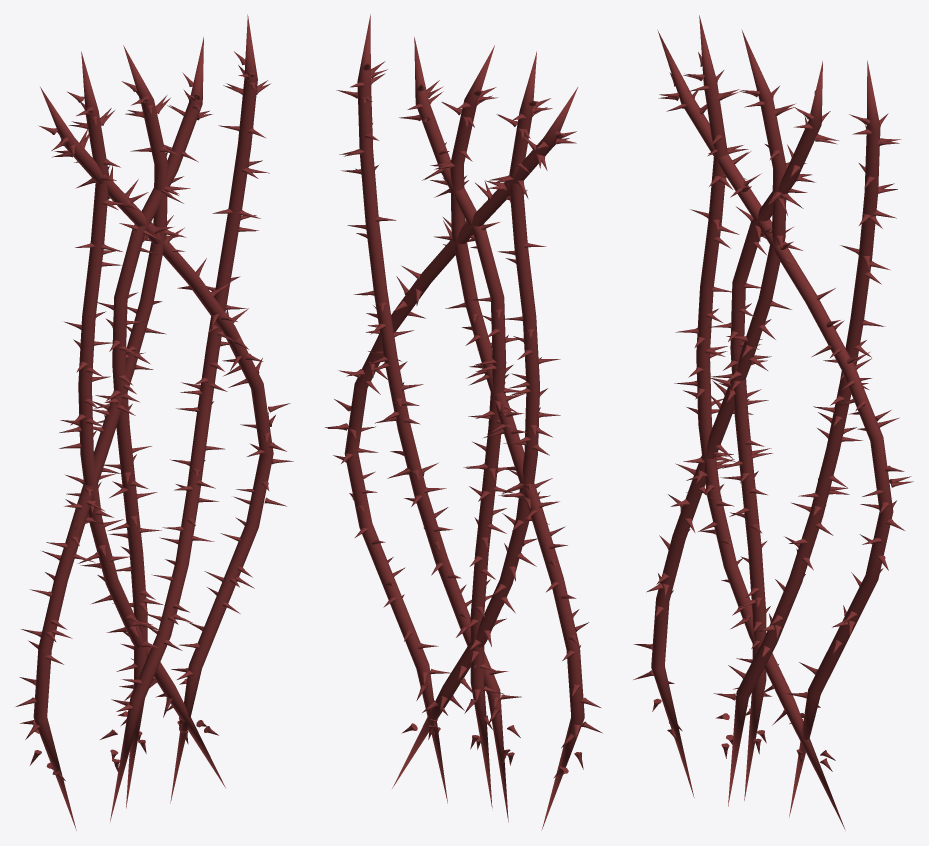
File: ronce_door_anim.fbx
The picture shows the model from 3 angles, left to right: view 1: azimuth 30°, elevation 25°; view 2: azimuth 150°, elevation 25°; view 3: azimuth 330°, elevation 25°; orthographic projection.
Visible parts, largest first — view 1: vigne, pasted__pCylinder7, pasted__pCylinder6, pasted__pCylinder5, pasted__pCylinder4; view 2: vigne, pasted__pCylinder6, pasted__pCylinder5, pasted__pCylinder7, pasted__pCylinder4; view 3: pasted__pCylinder7, pasted__pCylinder5, vigne, pasted__pCylinder6, pasted__pCylinder4.
Part boxes in pixels (x1,y1,x2,y2): vigne: (100,14,270,821); pasted__pCylinder7: (38,87,293,803); pasted__pCylinder6: (15,45,190,830); pasted__pCylinder5: (59,51,225,787); pasted__pCylinder4: (94,37,212,808); vigne: (336,14,521,822); pasted__pCylinder6: (430,45,602,830); pasted__pCylinder5: (392,51,560,788); pasted__pCylinder7: (325,87,577,803); pasted__pCylinder4: (399,37,523,808); pasted__pCylinder7: (657,30,913,816); pasted__pCylinder5: (674,15,845,829); vigne: (713,60,901,806); pasted__pCylinder6: (633,29,807,797); pasted__pCylinder4: (708,61,838,800).
Bounding box in the file's own units: 56.12 × 152 × 14.96.
